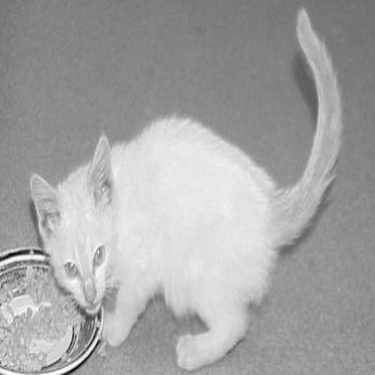cat: (26, 5, 344, 372)
